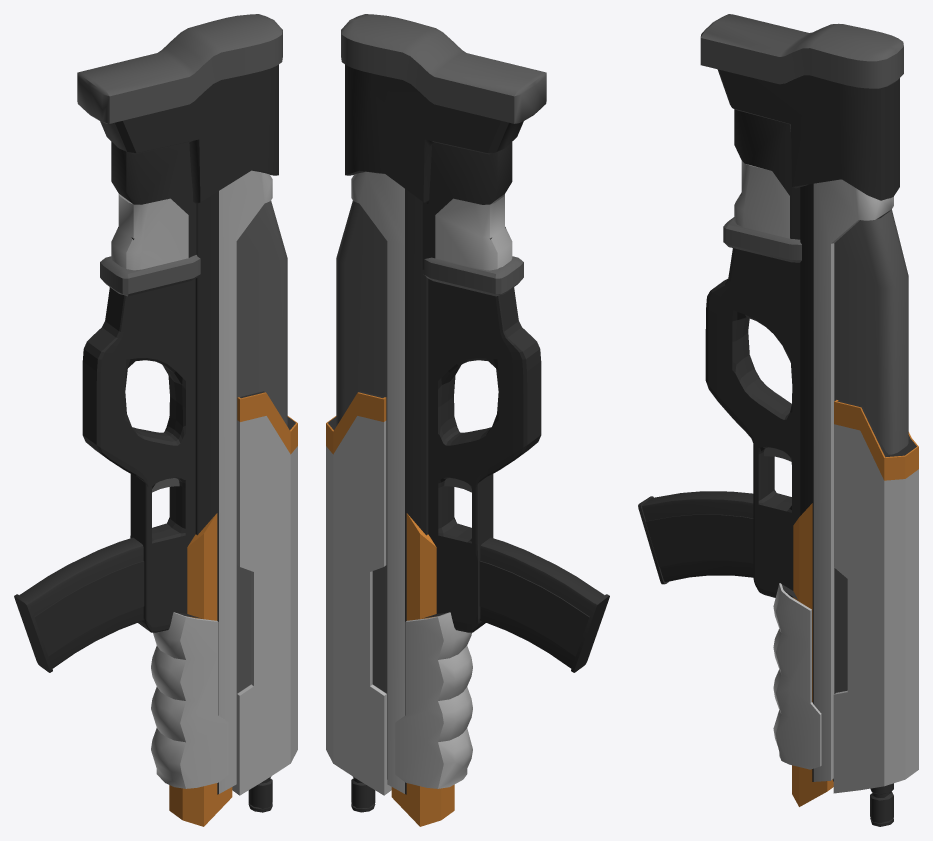
3 renders of one model, left to right at view 1: azimuth 30°, elevation 25°; view 2: azimuth 150°, elevation 25°; view 3: azimuth 330°, elevation 25°, orthographic.
Parts seen in each view (by area): view 1: WeaponMesh_qg-ar-4_AR_4, WeaponMesh_qg-ar-4_Magazine; view 2: WeaponMesh_qg-ar-4_AR_4, WeaponMesh_qg-ar-4_Magazine; view 3: WeaponMesh_qg-ar-4_AR_4, WeaponMesh_qg-ar-4_Magazine.
Boxes of the visible parts, x1,y1,x2,y2 form: WeaponMesh_qg-ar-4_AR_4: (77,14,297,826); WeaponMesh_qg-ar-4_Magazine: (14,537,144,672); WeaponMesh_qg-ar-4_AR_4: (326,14,546,826); WeaponMesh_qg-ar-4_Magazine: (479,537,609,672); WeaponMesh_qg-ar-4_AR_4: (700,14,918,826); WeaponMesh_qg-ar-4_Magazine: (638,491,753,584).
Size of the model in its own units: 0.4517 by 1.25 by 0.1019.
